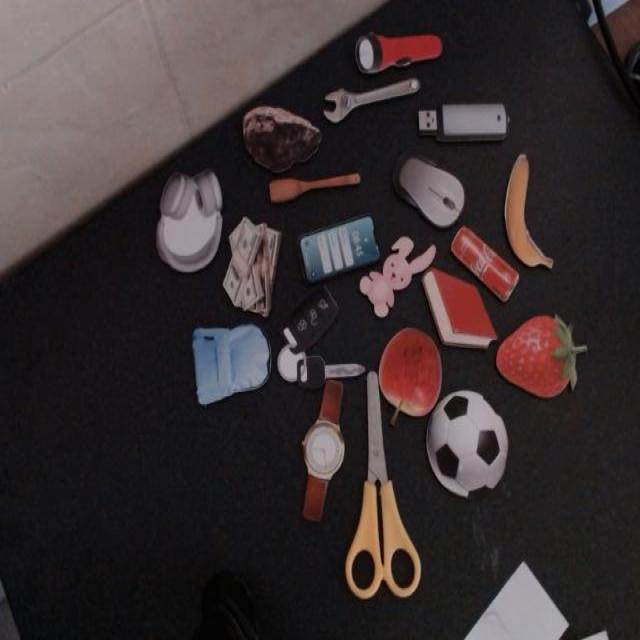Other Objects: (344, 369, 421, 599), (261, 281, 363, 419), (385, 136, 472, 241), (425, 391, 507, 497), (156, 170, 223, 273), (320, 59, 421, 127), (358, 235, 436, 317), (377, 327, 442, 425), (193, 325, 270, 404), (222, 215, 281, 317), (297, 213, 380, 285), (302, 381, 344, 521), (504, 154, 553, 269), (241, 104, 322, 173), (450, 224, 519, 303), (266, 157, 360, 207), (419, 104, 507, 143), (355, 34, 441, 73)
